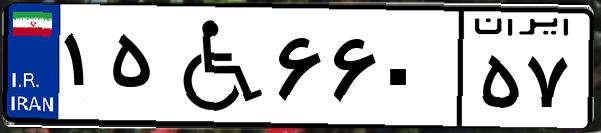0: (385, 28, 445, 110)
1: (57, 26, 110, 100)
5: (475, 38, 525, 113), (110, 28, 158, 98)
6: (270, 28, 330, 110), (330, 28, 385, 110)
7: (525, 38, 570, 115)
ژ (معلولین و جانبازان): (158, 12, 270, 120)
